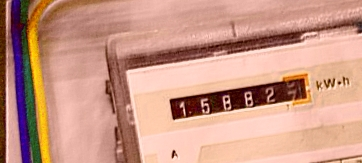1: (177, 98, 189, 117)
2: (264, 84, 277, 104)
5: (199, 96, 212, 114)
7: (287, 88, 299, 101)
8: (219, 92, 234, 111), (242, 88, 255, 108)
screen: (160, 68, 319, 129)
